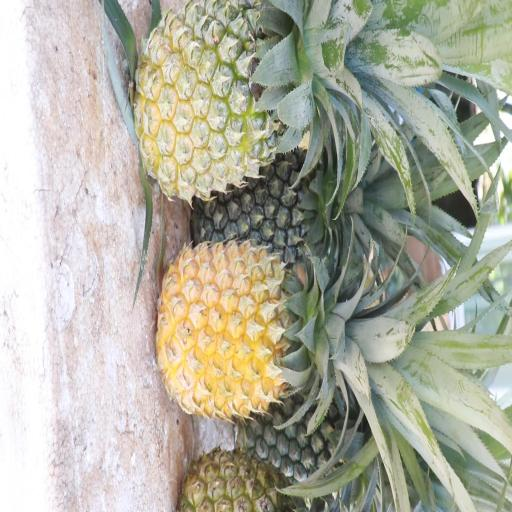------------------------------: (141, 0, 309, 191)
Pineapple - v8 v1: (163, 238, 337, 410)
